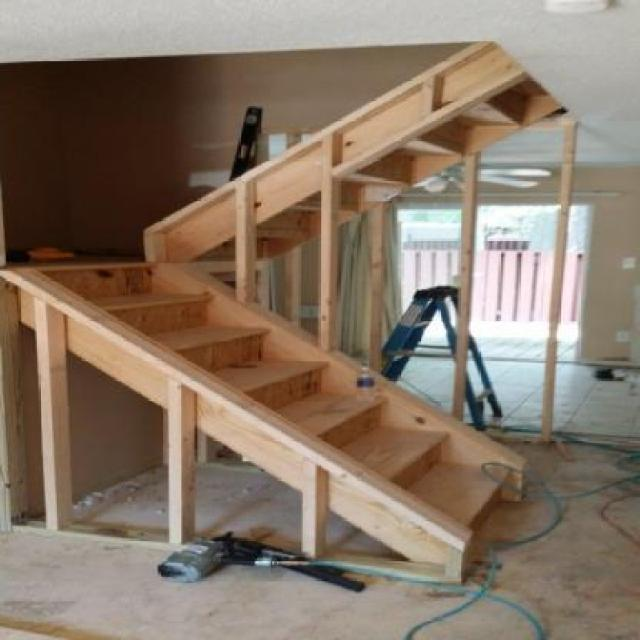stair: (1, 40, 562, 586)
